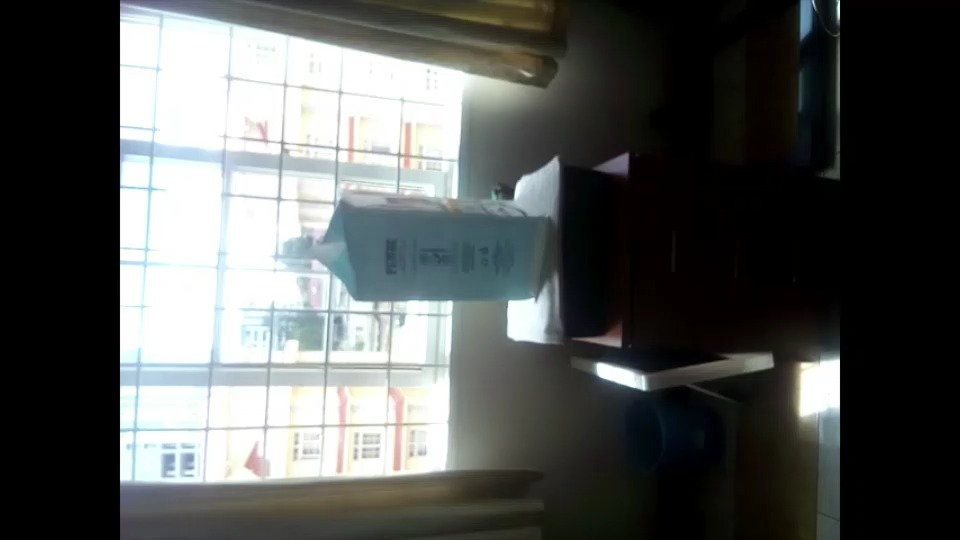wheat_flour_blue_label: (315, 188, 549, 298)
